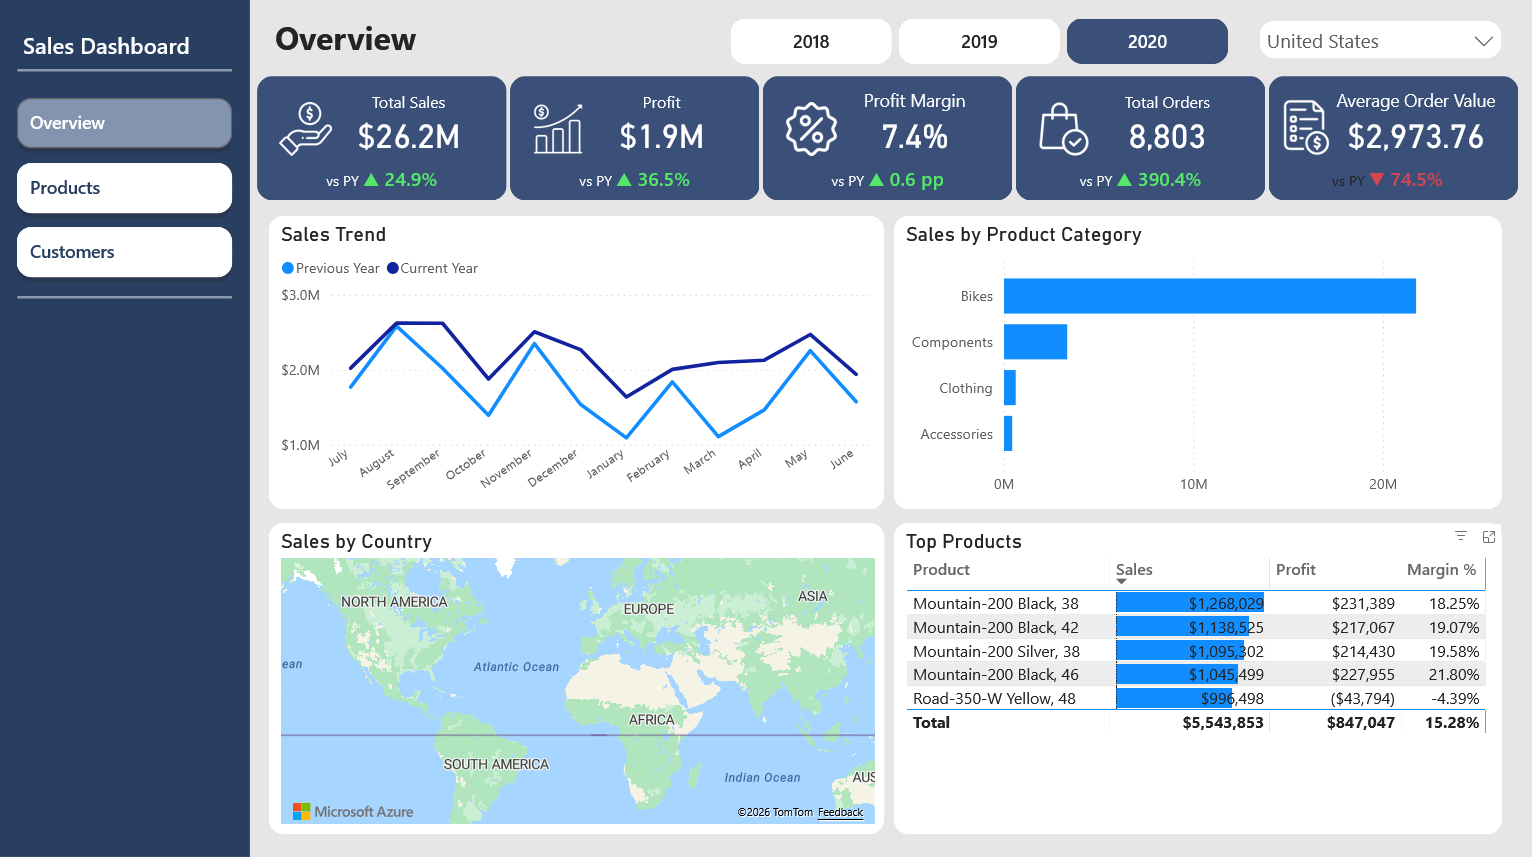

What the dashboard file says about the page in this screenshot:
{"tool":"powerbi","page":{"name":"Sales Dashboard","canvas":[1280,720],"ordinal":0},"visuals":[{"type":"textbox","box":[225.2,8.4,131.7,46.7],"z":0},{"type":"advancedSlicerVisual","fields":{"Values":["Date.Fiscal Year Display"]},"box":[603.9,8.2,432.5,52.6],"z":1000},{"type":"shape","box":[0,0,209.5,719.1],"z":2000},{"type":"slicer","fields":{"Values":["Sales Territory.Country"]},"box":[1045.8,8.2,221.9,52.4],"z":3000},{"type":"actionButton","box":[14,136.5,180.3,42],"z":3000,"group":"g1"},{"type":"cardVisual","fields":{"Data":["_Measures.Total Sales","_Measures.Profit","_Measures.Profit Margin %","_Measures.Total Orders","_Measures.Average Order Value"]},"box":[209.5,58.9,1070.9,116.1],"z":4000},{"type":"actionButton","box":[14,190.7,180.3,42],"z":4000,"group":"g1"},{"type":"lineChart","title":"Sales Trend","fields":{"Category":["Date.Month Display"],"Y":["_Measures.Sales LY","_Measures.Total Sales"]},"box":[225.6,181.6,515.6,245.6],"z":5000},{"type":"clusteredBarChart","title":"Sales by Product Category","fields":{"Category":["Product.Category"],"Y":["_Measures.Total Sales"]},"box":[749.6,181.6,509.2,245.6],"z":6000},{"type":"tableEx","title":"Top Products    ","fields":{"Values":["Product.Product","_Measures.Total Sales","_Measures.Profit","_Measures.Profit Margin %"]},"box":[749.6,439.5,509.2,260.6],"z":7000},{"type":"azureMap","title":"Sales by Country","fields":{"Category":["Sales Territory.Country"],"Size":["_Measures.Total Sales"]},"box":[225.6,439.5,515.7,260.6],"z":8000},{"type":"group","id":"g1","title":"Group 1","box":[14,82.3,180.3,150.4],"z":9000,"group":"g2"},{"type":"shape","box":[14,53.3,180.3,12.1],"z":10000,"group":"g2"},{"type":"actionButton","box":[14,82.3,180.3,42],"z":11000,"group":"g1"},{"type":"shape","box":[14,243.9,180.3,12.1],"z":11000,"group":"g2"},{"type":"textbox","box":[14,20.6,180.3,39.2],"z":12000,"group":"g2"},{"type":"group","id":"g2","title":"Group 3","box":[14,20.6,180.3,235.4],"z":12002}]}

Visuals, with their boxes on the page's 1280x720 design canvas (x1, y1, x2, y2). These are canvas units, not pixel positions in the 1532x857 screenshot, which may show the page scaled, cropped or inside an application window:
textbox: (225,8,357,55)
advancedSlicerVisual - Date.Fiscal Year Display: (604,8,1036,61)
shape: (0,0,210,719)
slicer - Sales Territory.Country: (1046,8,1268,61)
actionButton: (14,136,194,178)
cardVisual - _Measures.Total Sales x _Measures.Profit: (210,59,1280,175)
actionButton: (14,191,194,233)
"Sales Trend" lineChart: (226,182,741,427)
"Sales by Product Category" clusteredBarChart: (750,182,1259,427)
"Top Products    " tableEx: (750,440,1259,700)
"Sales by Country" azureMap: (226,440,741,700)
"Group 1" group: (14,82,194,233)
shape: (14,53,194,65)
actionButton: (14,82,194,124)
shape: (14,244,194,256)
textbox: (14,21,194,60)
"Group 3" group: (14,21,194,256)
